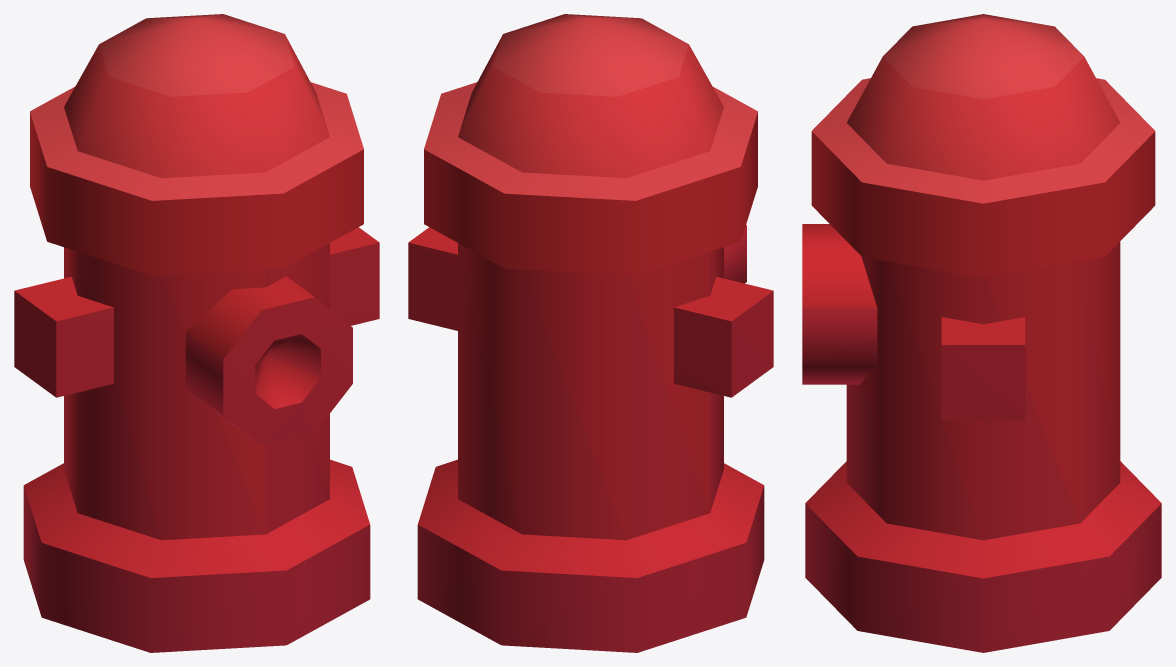
The picture shows the model from 3 angles, left to right: view 1: azimuth 30°, elevation 25°; view 2: azimuth 150°, elevation 25°; view 3: azimuth 270°, elevation 25°; orthographic projection.
Parts seen in each view (by area): view 1: firehydrant; view 2: firehydrant; view 3: firehydrant.
Boxes of the visible parts, <box> form: firehydrant: <box>14,14,379,652</box>; firehydrant: <box>408,14,773,652</box>; firehydrant: <box>802,14,1161,652</box>.
Size of the model in its own units: 0.4525 by 0.75 by 0.4385.
